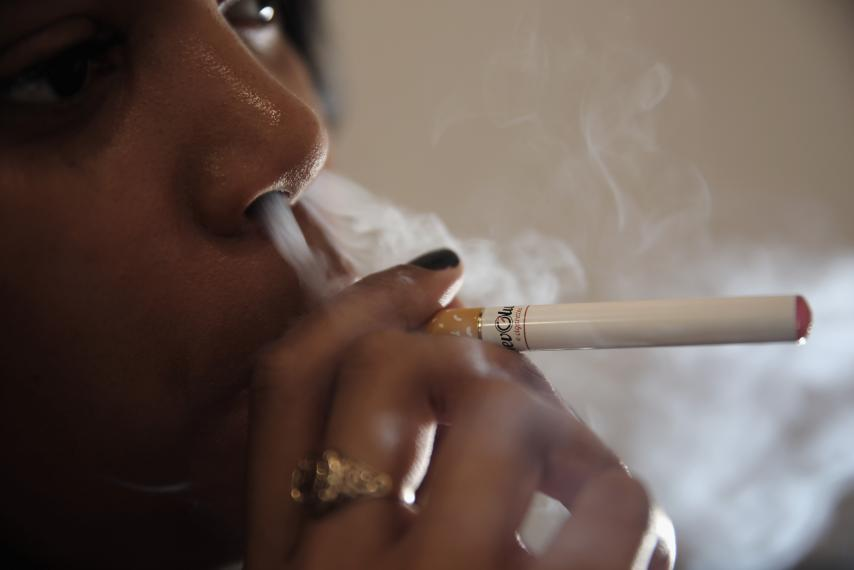cigarette: (359, 266, 825, 381)
